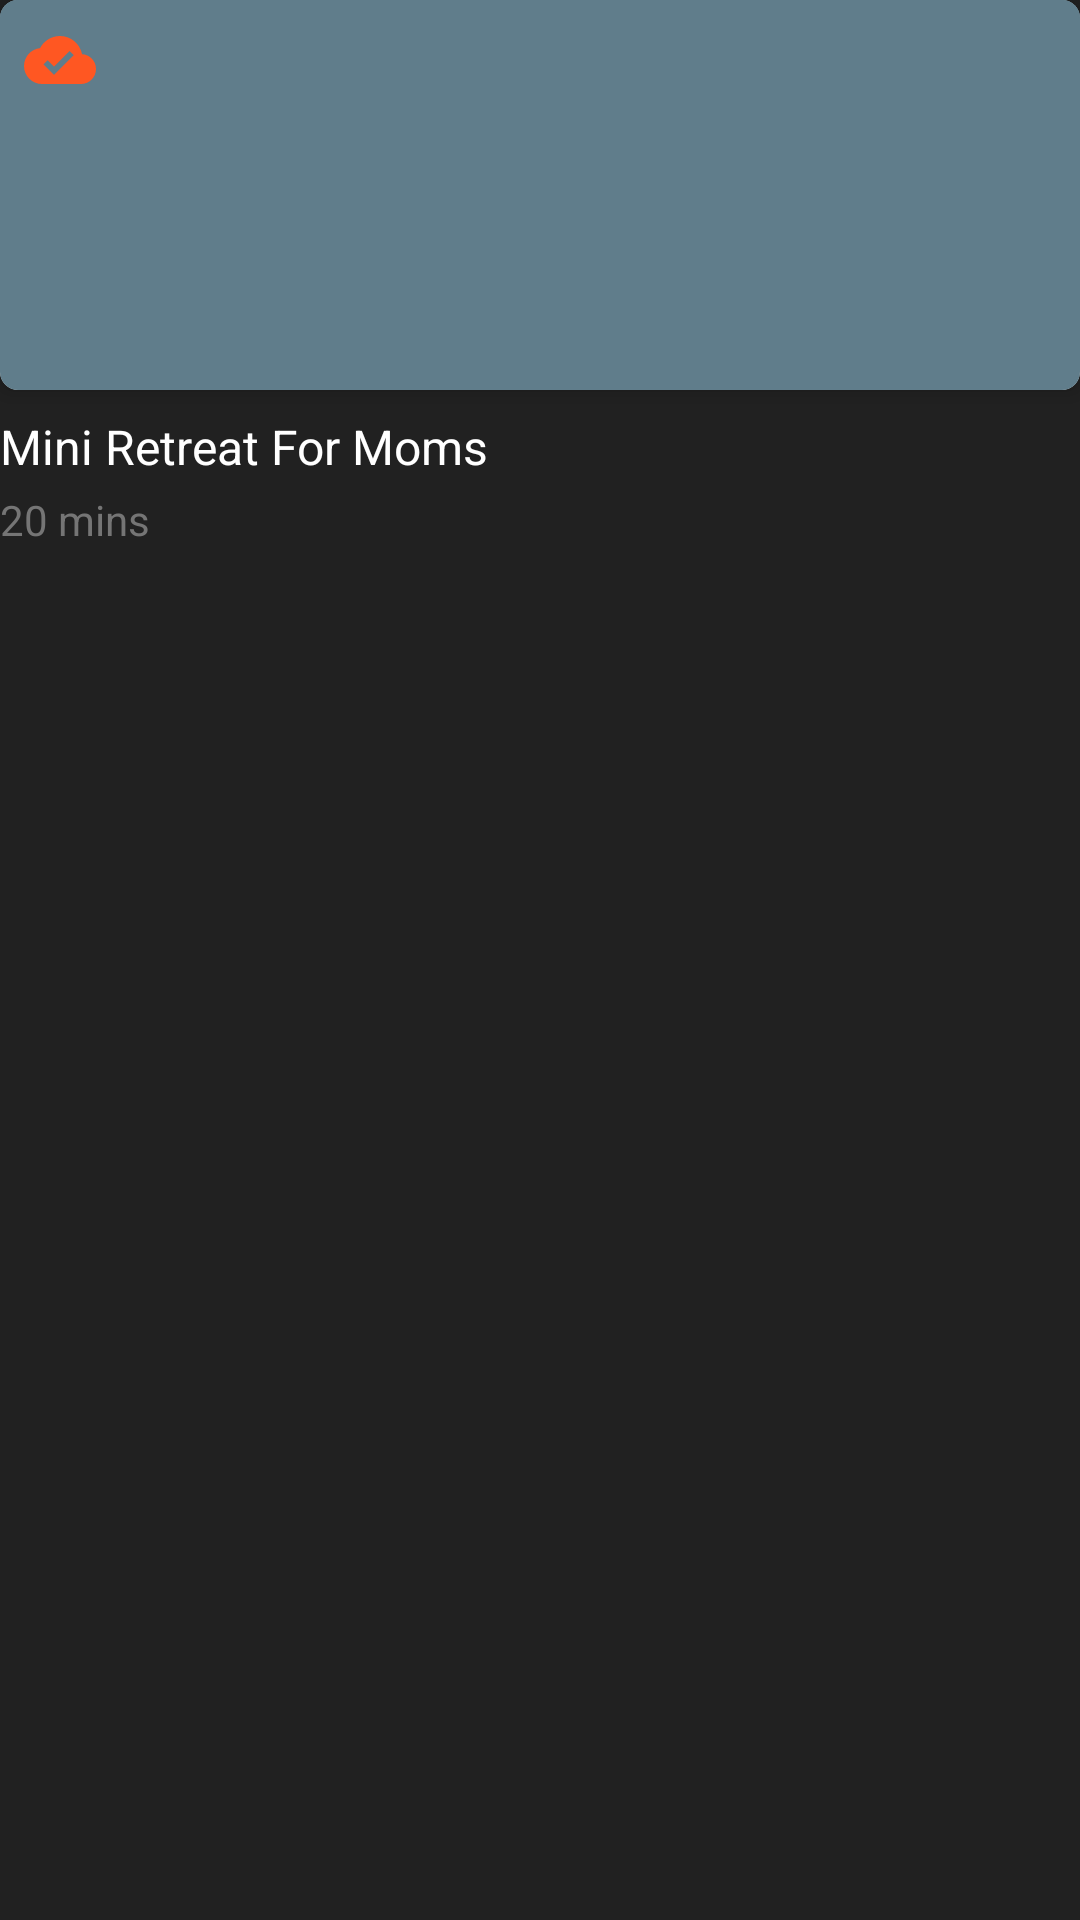

Icons on this 1080 x 1920 Android screen, each with the point to tap as point (x, y):
cloud done: point (48, 42)
